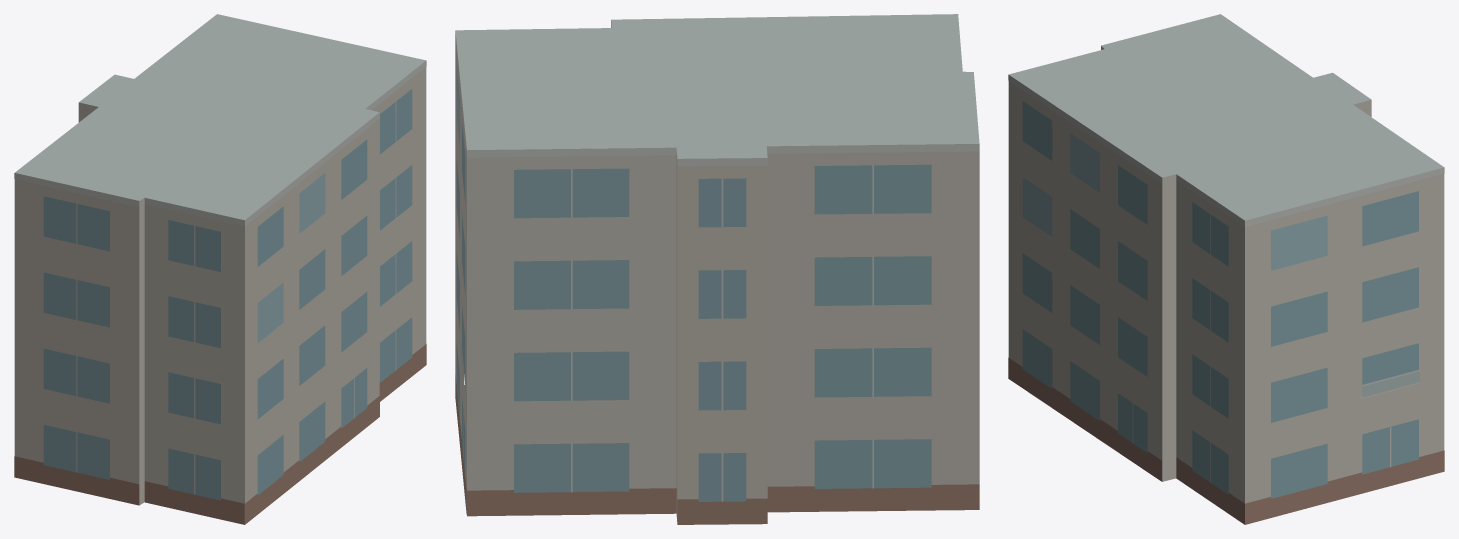
Rendered from survey-upis-32901843.glb.
3 views of the same model, side by side, from view 1: azimuth 30°, elevation 25°; view 2: azimuth 150°, elevation 25°; view 3: azimuth 270°, elevation 25° (orthographic). The views are drawn at different scales.
Visible parts, largest first — view 1: survey-upis-32901843.tmp; view 2: survey-upis-32901843.tmp; view 3: survey-upis-32901843.tmp.
Part boxes in pixels (x1,y1,x2,y2): survey-upis-32901843.tmp: (14, 14, 426, 524); survey-upis-32901843.tmp: (455, 14, 979, 524); survey-upis-32901843.tmp: (1008, 14, 1444, 524).
Bounding box in the file's own units: 17.35 × 11.9 × 15.47.
